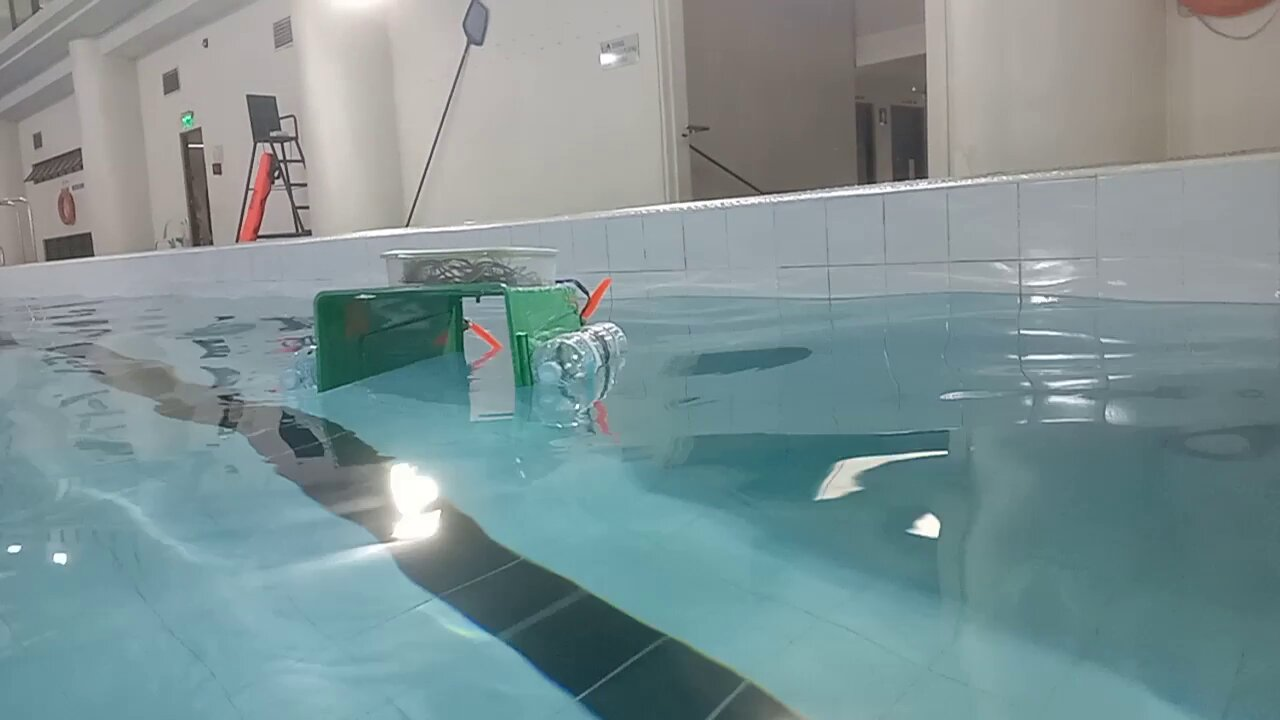drone: (282, 246, 630, 400)
